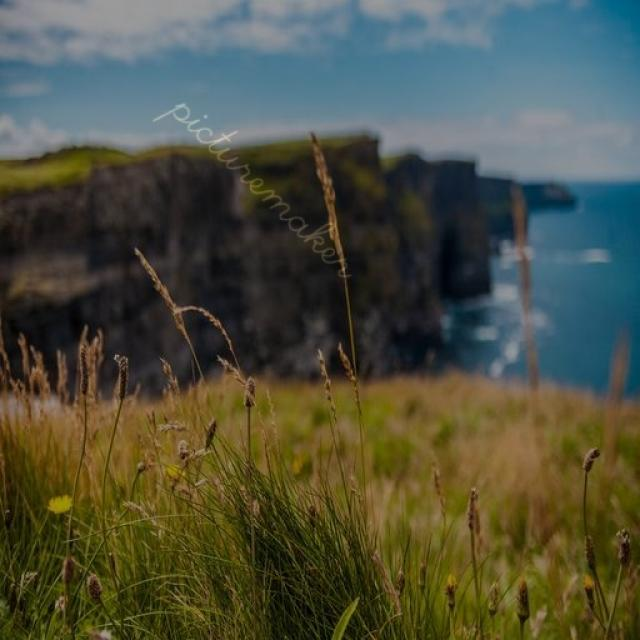watermark: (158, 77, 378, 290)
